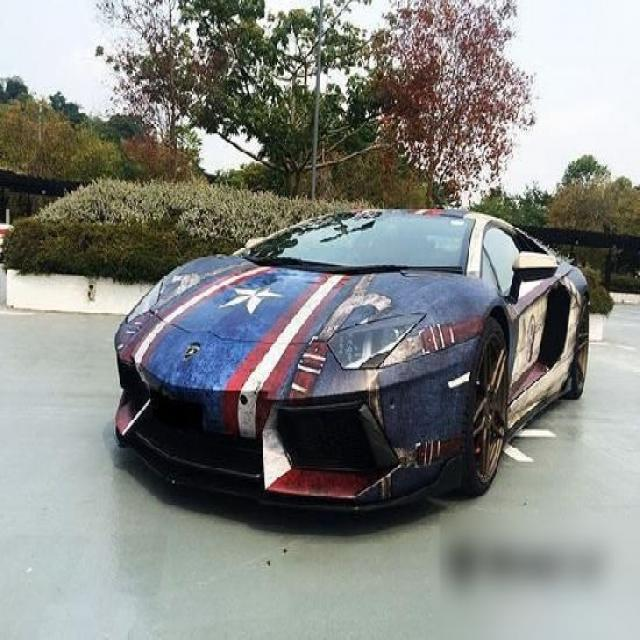front_bumper: (113, 312, 483, 515)
front_glass: (241, 213, 474, 274)
front_left_door: (483, 221, 549, 401)
front_left_light: (326, 314, 425, 370)
front_right_light: (128, 278, 162, 324)
left_mirror: (511, 251, 561, 302)
wheel: (459, 317, 509, 494), (573, 297, 590, 397)
